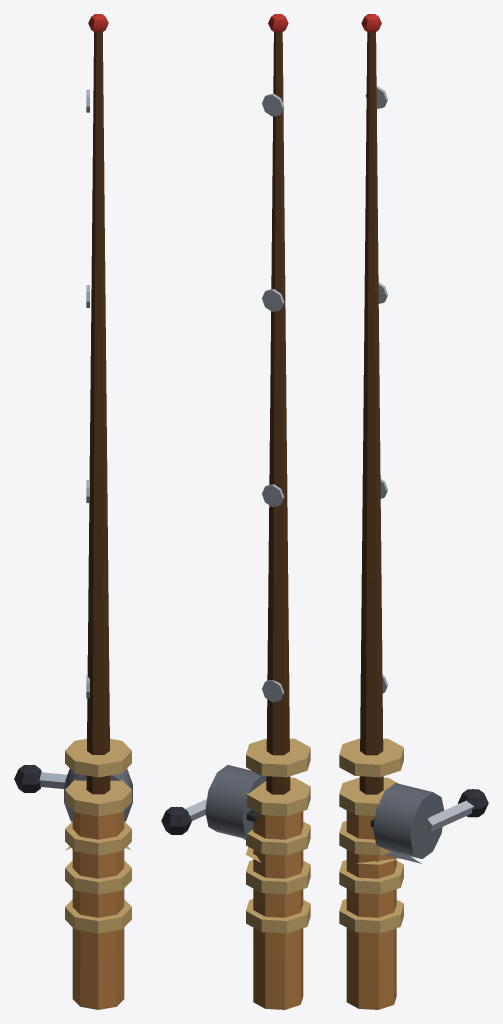
File: item_fishing_rod.glb
3 views of the same model, side by side, from view 1: azimuth 90°, elevation 25°; view 2: azimuth 150°, elevation 25°; view 3: azimuth 330°, elevation 25° (orthographic).
Visible parts, largest first — view 1: item_fishing_rod, item_fishing_rod_detail; view 2: item_fishing_rod, item_fishing_rod_detail; view 3: item_fishing_rod, item_fishing_rod_detail.
Boxes of the visible parts, bbox=[...] form: item_fishing_rod: bbox=[64, 14, 132, 1009]; item_fishing_rod_detail: bbox=[14, 738, 131, 933]; item_fishing_rod: bbox=[205, 14, 303, 1009]; item_fishing_rod_detail: bbox=[161, 738, 310, 933]; item_fishing_rod: bbox=[346, 14, 444, 1009]; item_fishing_rod_detail: bbox=[339, 738, 488, 933].
Size of the model in its own units: 0.1446 by 1.26 by 0.138.
